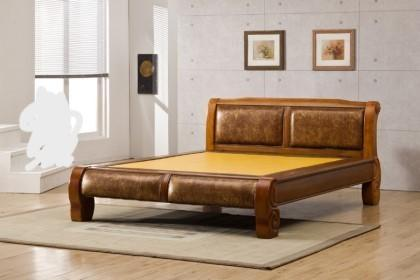Bed-Mattress: (54, 74, 386, 249)
